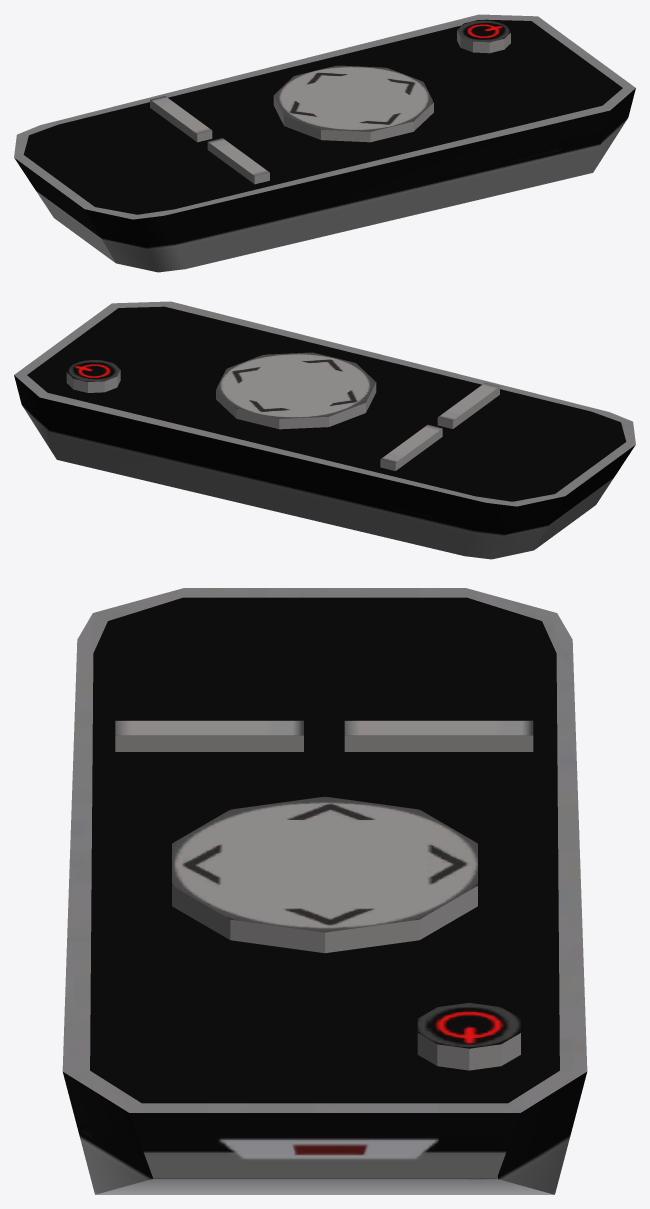
Rendered from Television_Remote.fbx.
3 views of the same model, one above another, from view 1: azimuth 30°, elevation 25°; view 2: azimuth 150°, elevation 25°; view 3: azimuth 270°, elevation 25° (orthographic). The views are drawn at different scales.
Parts seen in each view (by area): view 1: Remote_Control; view 2: Remote_Control; view 3: Remote_Control.
Part boxes in pixels (<box>): Remote_Control: <box>14,14,635,272</box>; Remote_Control: <box>14,301,635,559</box>; Remote_Control: <box>62,588,587,1194</box>.
Bounding box in the file's own units: 29.24 × 4 × 12.36.
